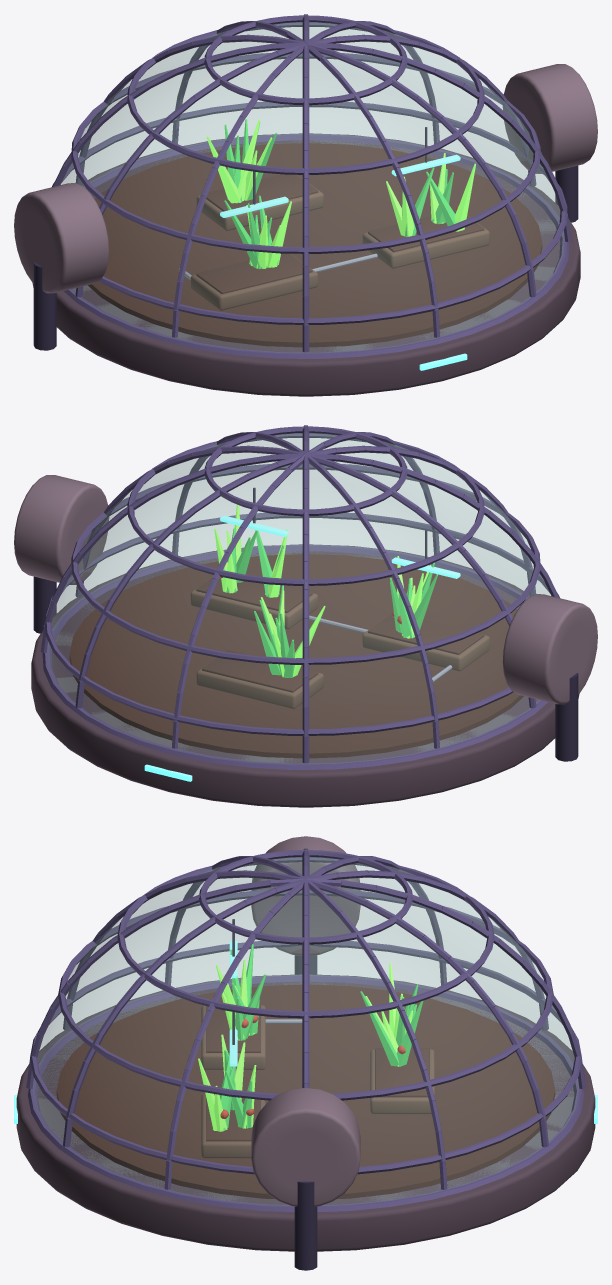
Rendered from greenhouse.glb.
The picture shows the model from 3 angles, top to bottom: view 1: azimuth 30°, elevation 25°; view 2: azimuth 150°, elevation 25°; view 3: azimuth 270°, elevation 25°; orthographic projection. The views are drawn at different scales.
Parts seen in each view (by area): view 1: greenhouse; view 2: greenhouse; view 3: greenhouse.
Boxes of the visible parts, x1,y1,x2,y2 form: greenhouse: (14, 14, 597, 396); greenhouse: (14, 425, 597, 807); greenhouse: (14, 836, 597, 1270).
Bounding box in the file's own units: 8.2 × 3.47 × 7.26.
